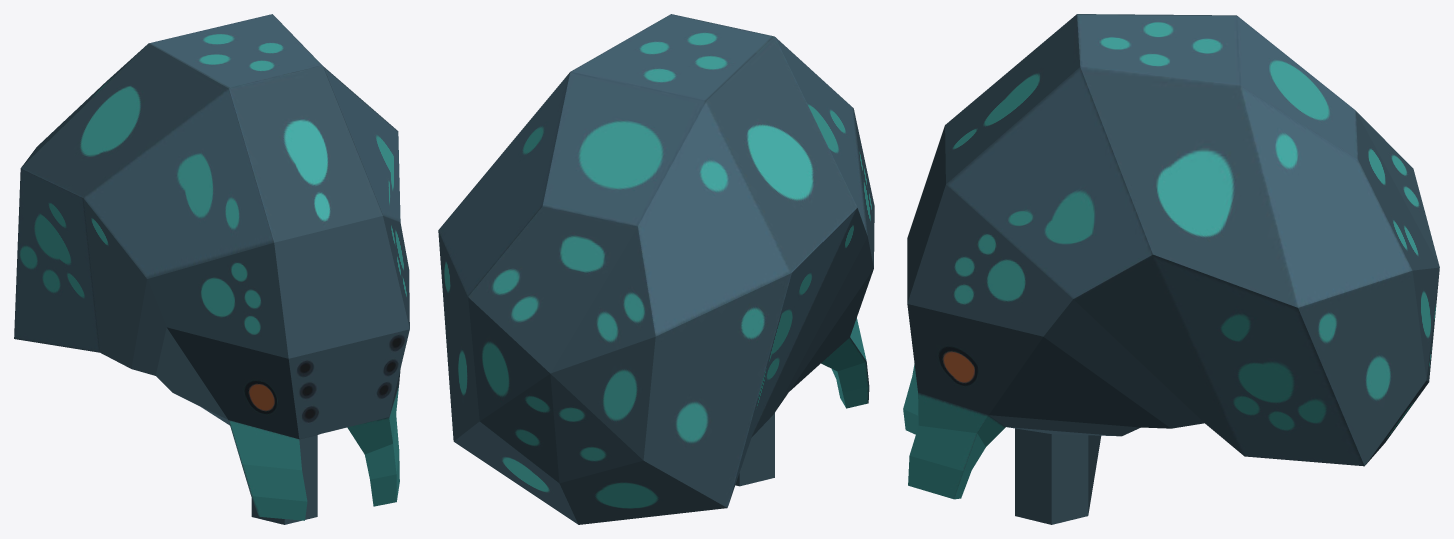
The model's file is New_FishHead.fbx.
3 views of the same model, side by side, from view 1: azimuth 30°, elevation 25°; view 2: azimuth 150°, elevation 25°; view 3: azimuth 270°, elevation 25° (orthographic). The views are drawn at different scales.
Visible parts, largest first — view 1: pCylinder3; view 2: pCylinder3; view 3: pCylinder3.
Boxes of the visible parts, x1,y1,x2,y2 form: pCylinder3: (14, 14, 409, 524); pCylinder3: (438, 14, 874, 524); pCylinder3: (903, 14, 1439, 524).
Bounding box in the file's own units: 2.27 × 2.81 × 2.91.
